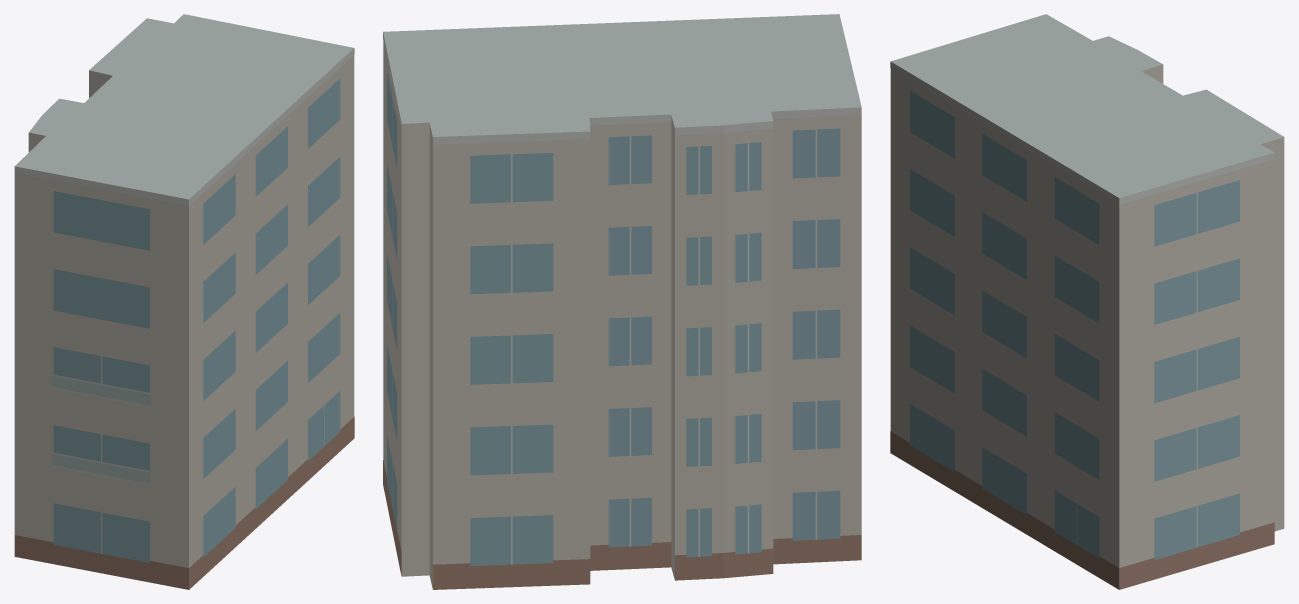
The model's file is survey-upis-32791997.glb.
3 renders of one model, left to right at view 1: azimuth 30°, elevation 25°; view 2: azimuth 150°, elevation 25°; view 3: azimuth 270°, elevation 25°, orthographic. The views are drawn at different scales.
Visible parts, largest first — view 1: survey-upis-32791997.tmp; view 2: survey-upis-32791997.tmp; view 3: survey-upis-32791997.tmp.
Part boxes in pixels (x1,y1,x2,y2): survey-upis-32791997.tmp: [14, 14, 354, 589]; survey-upis-32791997.tmp: [383, 14, 861, 589]; survey-upis-32791997.tmp: [890, 14, 1284, 589].
Bounding box in the file's own units: 14.73 × 14.6 × 13.31.
